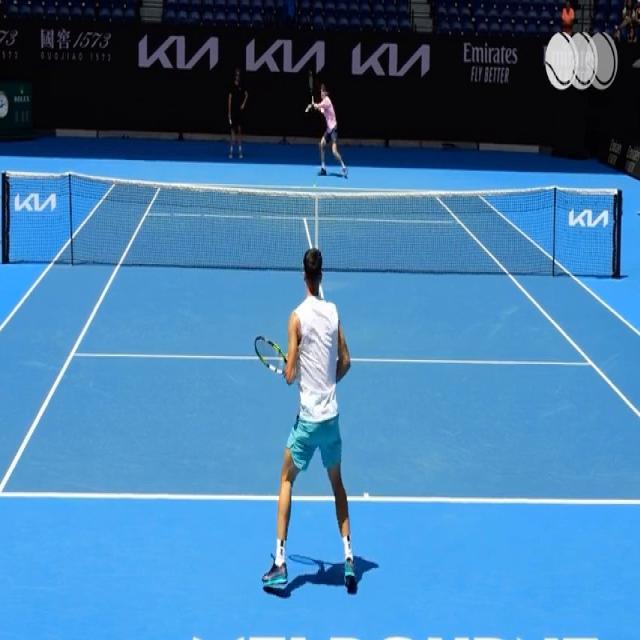ready-position: (258, 251, 372, 595)
